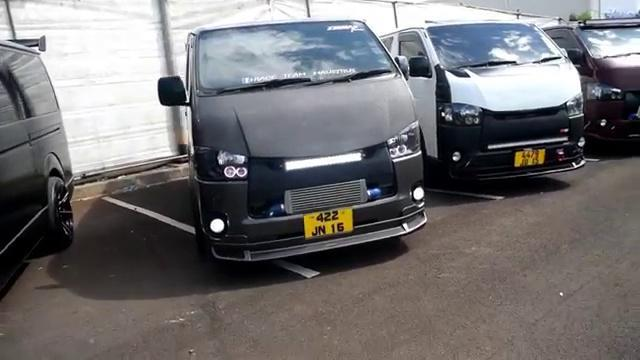Van: (167, 26, 431, 263), (383, 21, 598, 203)
